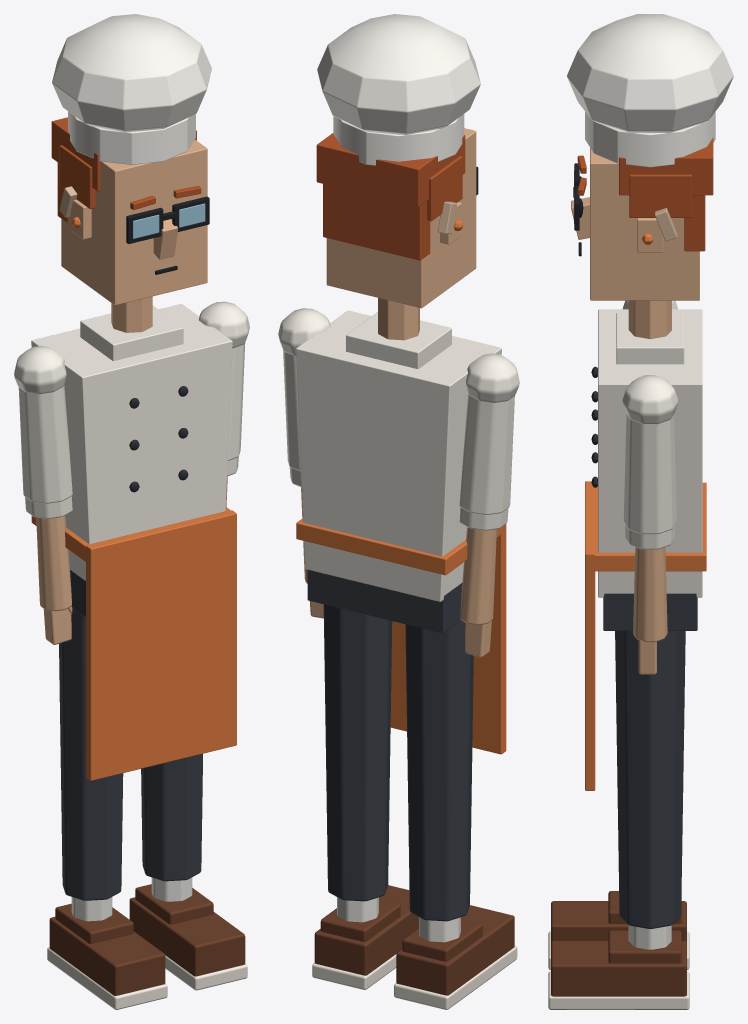
Rendered from Chef_Deaf.glb.
3 views of the same model, side by side, from view 1: azimuth 30°, elevation 25°; view 2: azimuth 150°, elevation 25°; view 3: azimuth 270°, elevation 25° (orthographic). The views are drawn at different scales.
Parts seen in each view (by area): view 1: Chef_Deaf_Torso, Chef_Deaf_Head, Chef_Deaf_LegL, Chef_Deaf_LegR, Chef_Deaf_ArmL, Chef_Deaf_ForearmL, Chef_Deaf_ArmR; view 2: Chef_Deaf_Torso, Chef_Deaf_Head, Chef_Deaf_LegL, Chef_Deaf_LegR, Chef_Deaf_ArmL, Chef_Deaf_ForearmL, Chef_Deaf_ArmR; view 3: Chef_Deaf_Head, Chef_Deaf_LegR, Chef_Deaf_Torso, Chef_Deaf_ArmR, Chef_Deaf_ForearmR, Chef_Deaf_LegL.
Part boxes in pixels (left/top/right/bottom): Chef_Deaf_Torso: left=31, top=296, right=236, bottom=780; Chef_Deaf_Head: left=51, top=14, right=211, bottom=305; Chef_Deaf_LegL: left=47, top=575, right=167, bottom=1009; Chef_Deaf_LegR: left=129, top=753, right=247, bottom=990; Chef_Deaf_ArmL: left=14, top=345, right=72, bottom=503; Chef_Deaf_ForearmL: left=25, top=496, right=72, bottom=644; Chef_Deaf_ArmR: left=199, top=301, right=249, bottom=460; Chef_Deaf_Torso: left=296, top=298, right=506, bottom=754; Chef_Deaf_Head: left=316, top=14, right=480, bottom=308; Chef_Deaf_LegL: left=394, top=588, right=517, bottom=1009; Chef_Deaf_LegR: left=312, top=604, right=418, bottom=989; Chef_Deaf_ArmL: left=459, top=353, right=519, bottom=514; Chef_Deaf_ForearmL: left=459, top=507, right=508, bottom=657; Chef_Deaf_ArmR: left=278, top=308, right=330, bottom=471; Chef_Deaf_Head: left=567, top=14, right=733, bottom=300; Chef_Deaf_LegR: left=548, top=631, right=689, bottom=1009; Chef_Deaf_Torso: left=585, top=300, right=706, bottom=790; Chef_Deaf_ArmR: left=622, top=375, right=678, bottom=534; Chef_Deaf_ForearmR: left=625, top=524, right=675, bottom=674; Chef_Deaf_LegL: left=548, top=891, right=689, bottom=969.
Size of the model in its own units: 0.5128 by 2.01 by 0.3542.
